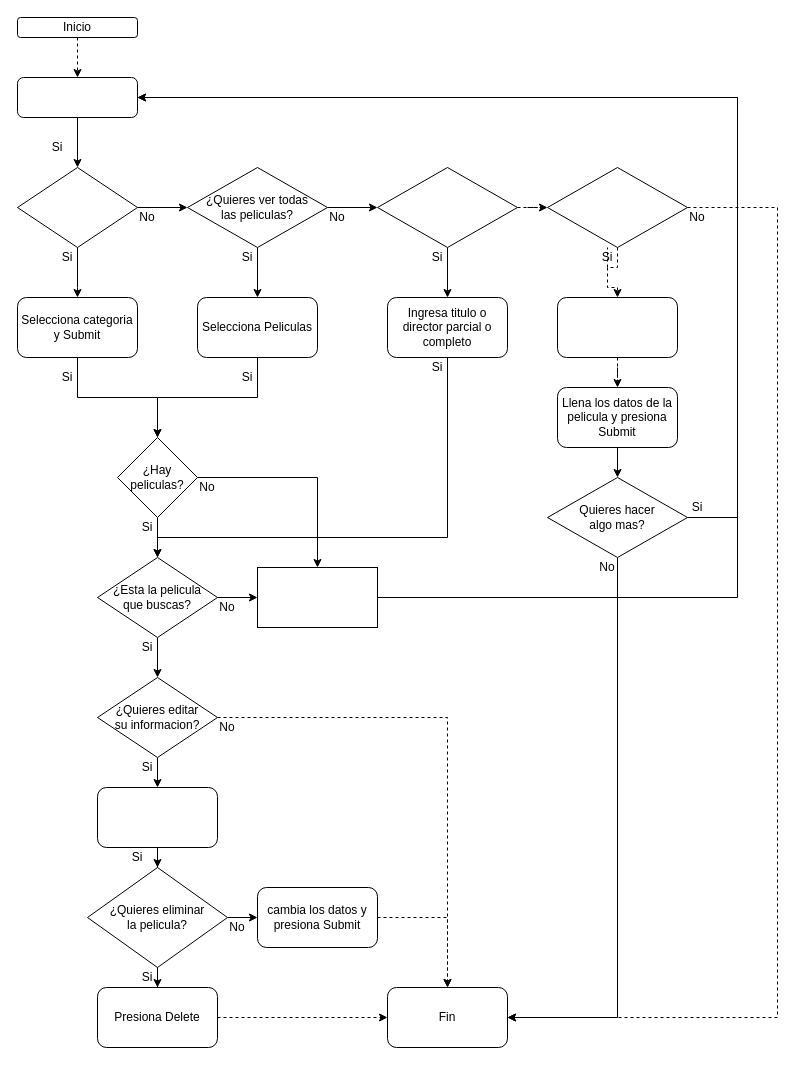
Some shapes in this 803 by 1065 pixel diagram are drawn without their labels. The shapes that lost their labels are listed below. From the top down, each one's centre as x and y in pixels, then its label:
(77,97): Quieres ver la informaciond e una pelicula
(77,207): ¿Quieres filtrar por categoria?
(447,207): ¿Quieres buscar por titulo o director?
(617,207): Quieres registrar una pelicula?
(617,327): Selecciona Registrar pelicula
(317,597): Regresa al menu principal y selecciona Registrar Pelicula
(157,817): Presiona Editar
